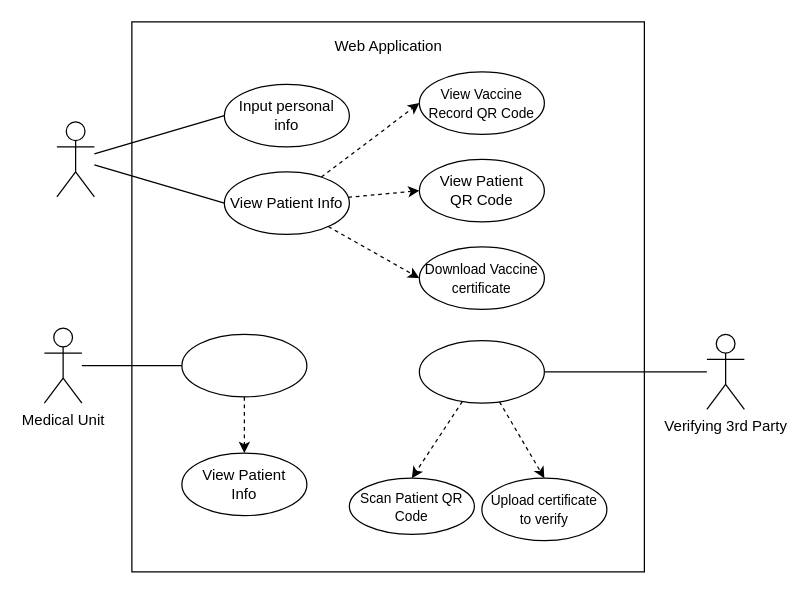
The diagram is 808 pixels wide and 594 high, and some of its shapes have lost their labels. Here are the shapes that lost their labels. From the top down, the centre of each, then its label:
(x=75, y=159): Patient
(x=244, y=365): Create Vaccine Record for Patient
(x=481, y=371): Verify Vaccine record
